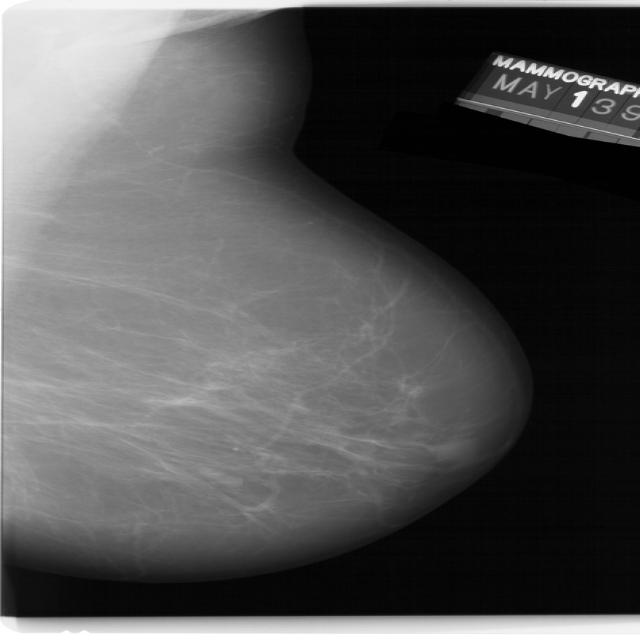tumour: (201, 469, 242, 487)
